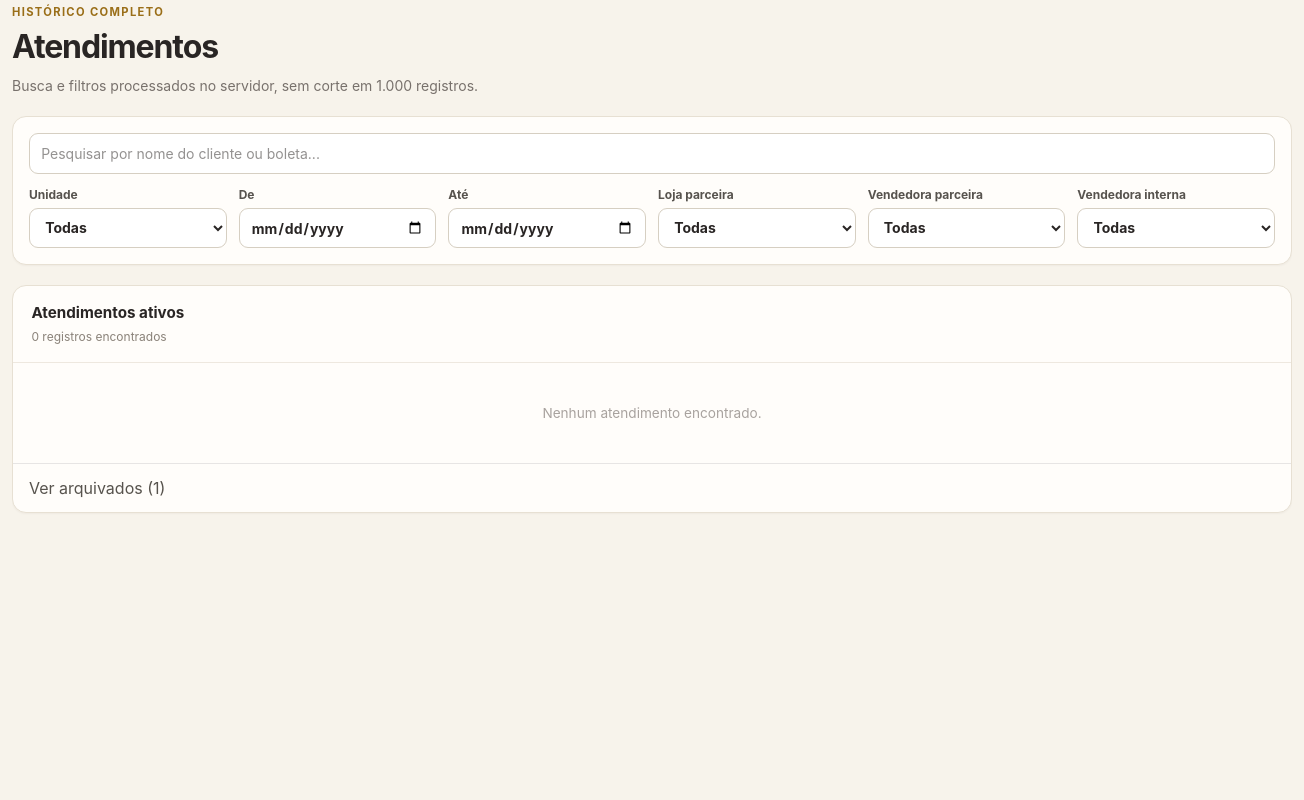
it: TabAtendimentos (Admin) › toggle Ver arquivados mostra itens arquivados
What coordinates should you click on to do the following:
click the button "Ver arquivados (1)"
I would click on:
 (97, 488)
Its box is [13, 464, 1291, 512].
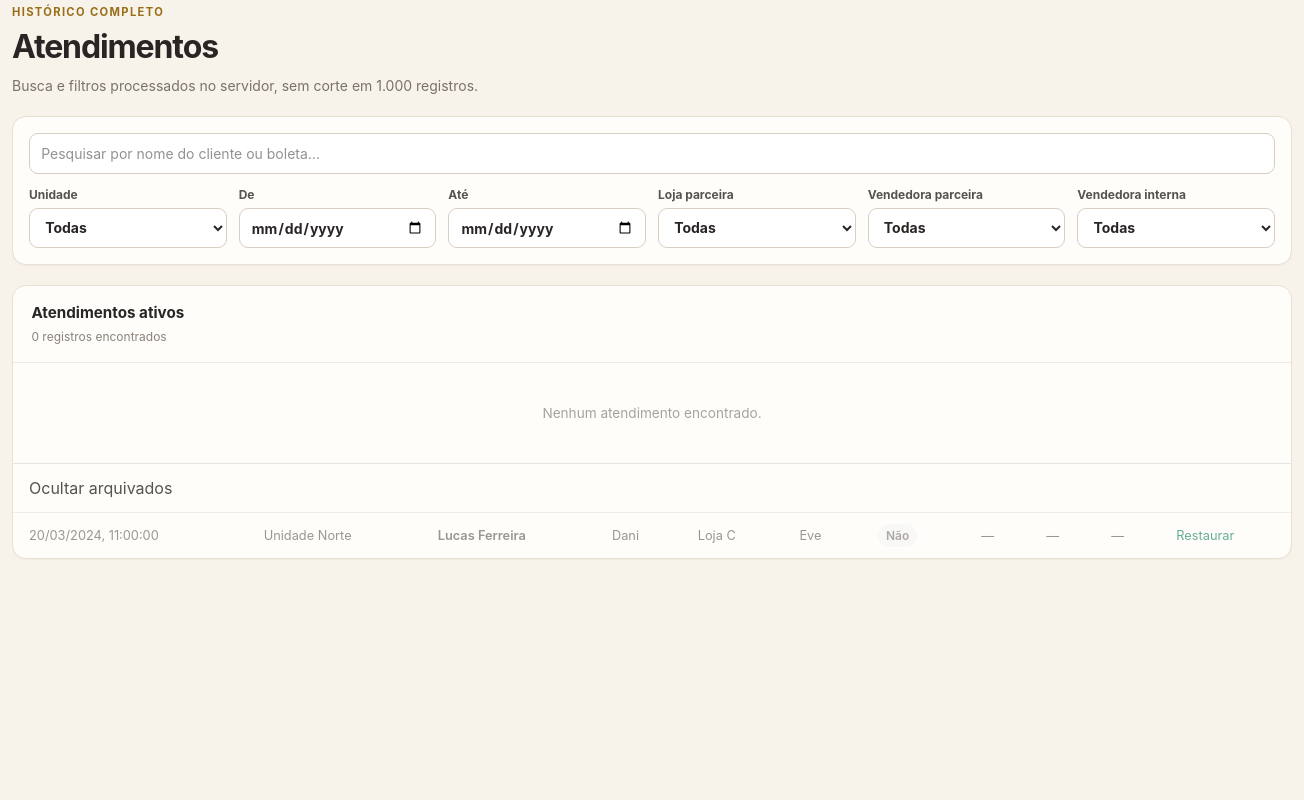
Check: the text "Lucas Ferreira" is shown, box [422, 512, 596, 558]
Check: the button "Restaurar" is shown, box [1176, 526, 1234, 545]
